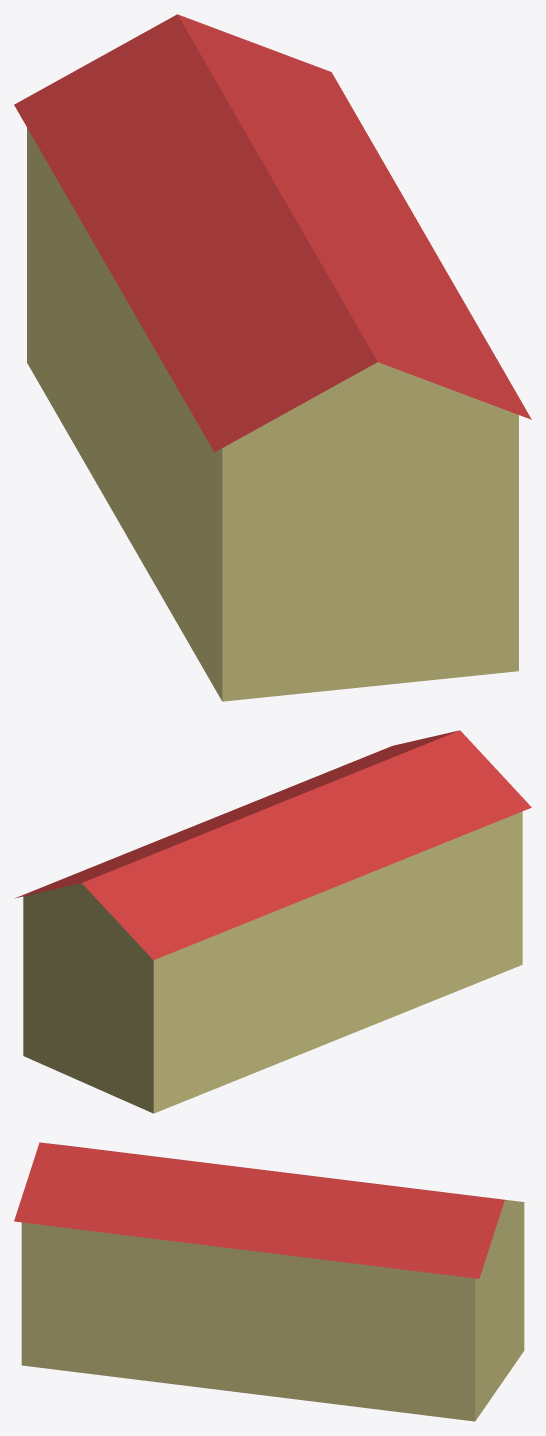
3 views of the same model, one above another, from view 1: azimuth 30°, elevation 25°; view 2: azimuth 150°, elevation 25°; view 3: azimuth 270°, elevation 25° (orthographic). The views are drawn at different scales.
Visible parts, largest first — view 1: group_5, group_3, group_4; view 2: group_5, group_3, group_4; view 3: group_5, group_3, group_4.
Part boxes in pixels (x1=…): group_5: x1=27, y1=128, x2=518, y2=701; group_3: x1=23, y1=14, x2=531, y2=441; group_4: x1=14, y1=14, x2=527, y2=452; group_5: x1=23, y1=811, x2=522, y2=1113; group_3: x1=25, y1=730, x2=522, y2=953; group_4: x1=15, y1=730, x2=531, y2=959; group_5: x1=21, y1=1200, x2=524, y2=1421; group_3: x1=14, y1=1142, x2=515, y2=1278; group_4: x1=22, y1=1143, x2=521, y2=1278.
Bounding box in the file's own units: 25.5 × 41.82 × 16.74.
